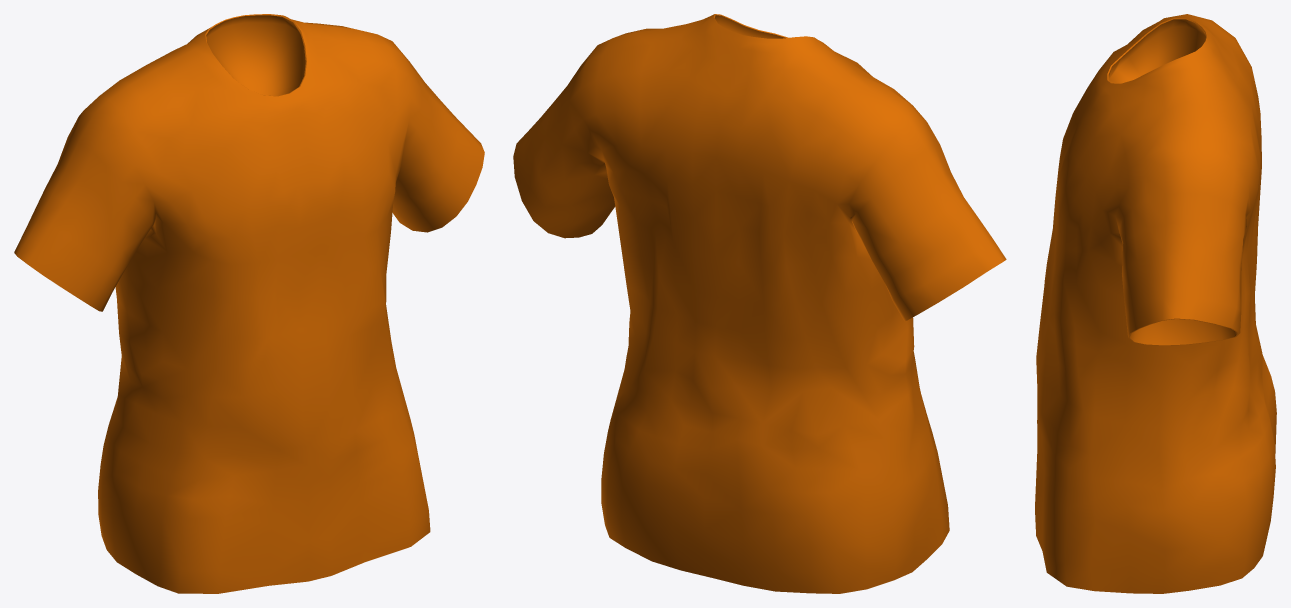
The picture shows the model from 3 angles, left to right: view 1: azimuth 30°, elevation 25°; view 2: azimuth 150°, elevation 25°; view 3: azimuth 270°, elevation 25°; orthographic projection. The views are drawn at different scales.
Parts seen in each view (by area): view 1: hash_0E4F123C.model; view 2: hash_0E4F123C.model; view 3: hash_0E4F123C.model.
Part boxes in pixels (left/top/right/bottom): hash_0E4F123C.model: left=14, top=14, right=484, bottom=593; hash_0E4F123C.model: left=513, top=14, right=1006, bottom=593; hash_0E4F123C.model: left=1035, top=14, right=1276, bottom=593.
Size of the model in its own units: 0.775 by 0.7959 by 0.3531.
